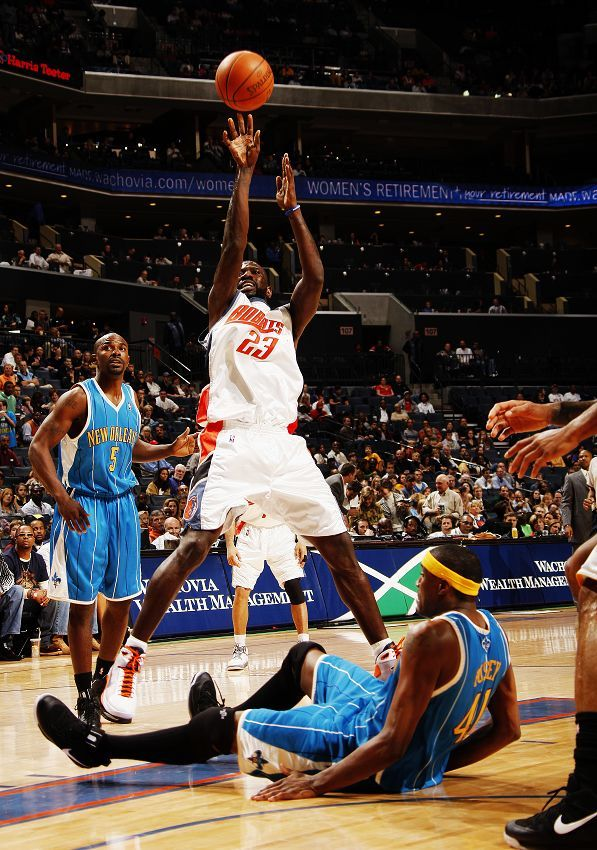10+: (10, 110, 597, 834)
down: (36, 537, 533, 795)
